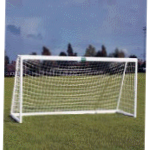goals: (9, 53, 140, 125)
